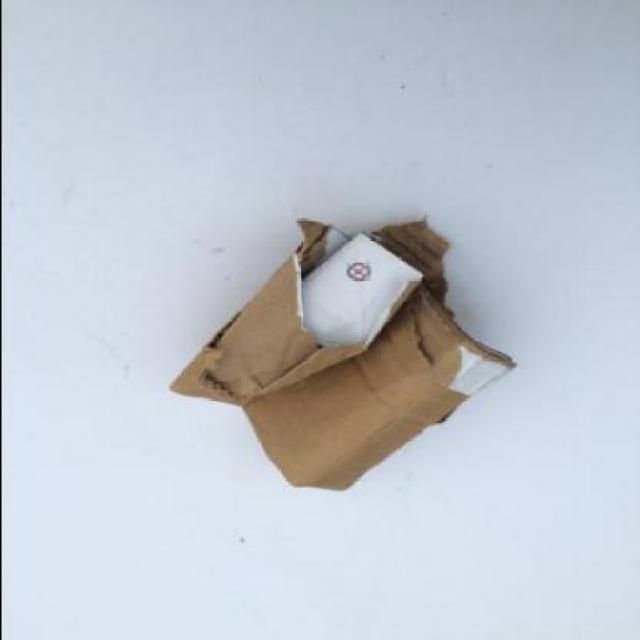box: (166, 218, 514, 494)
